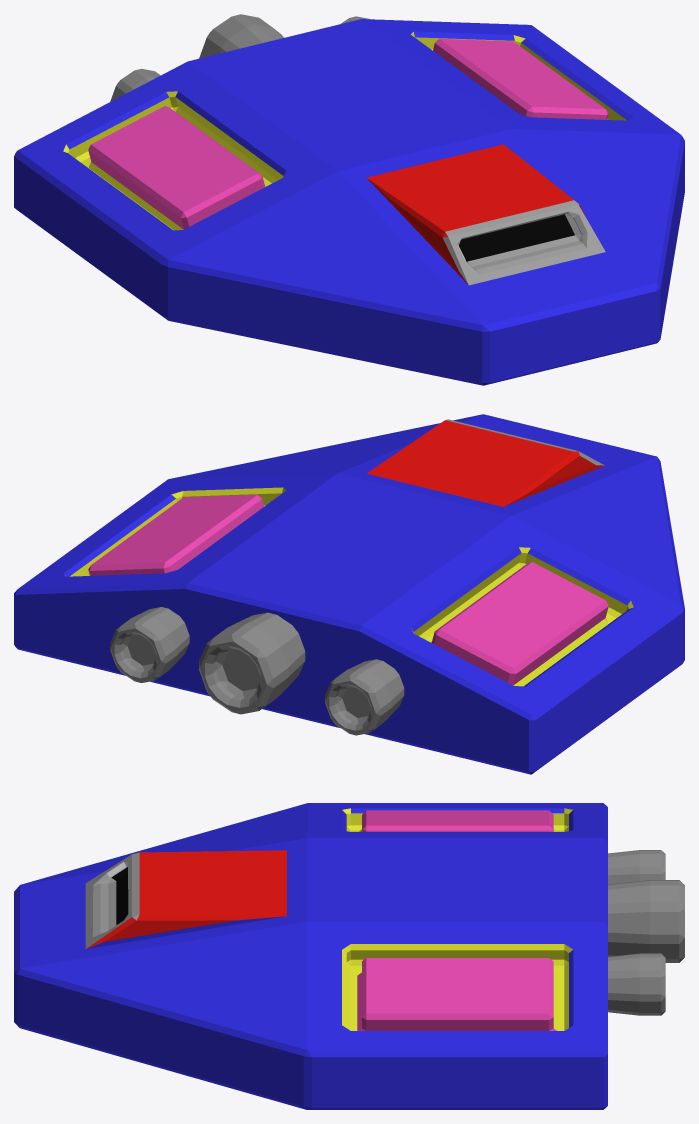
File: spaceship2.fbx
3 views of the same model, one above another, from view 1: azimuth 30°, elevation 25°; view 2: azimuth 150°, elevation 25°; view 3: azimuth 270°, elevation 25° (orthographic).
Visible parts, largest first — view 1: Plane, Circle, Circle.001; view 2: Plane, Circle.001, Circle; view 3: Plane, Circle, Circle.001.
Part boxes in pixels (left/top/right/bottom): Plane: left=14, top=19, right=684, bottom=385; Circle: left=199, top=14, right=283, bottom=58; Circle.001: left=110, top=16, right=369, bottom=101; Plane: left=14, top=414, right=684, bottom=774; Circle.001: left=110, top=607, right=404, bottom=735; Circle: left=199, top=612, right=305, bottom=714; Plane: left=14, top=803, right=607, bottom=1109; Circle: left=608, top=880, right=684, bottom=962; Circle.001: left=608, top=850, right=665, bottom=1015.
Bounding box in the file's own units: 200 × 39.53 × 226.
